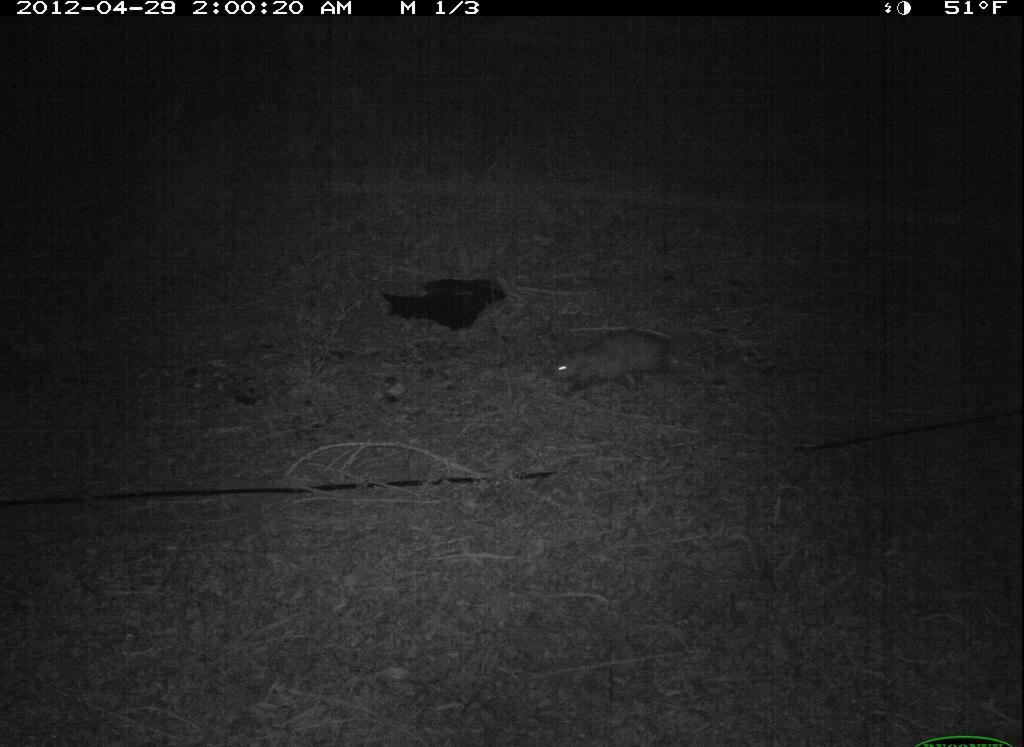opossum: (545, 324, 688, 405)
